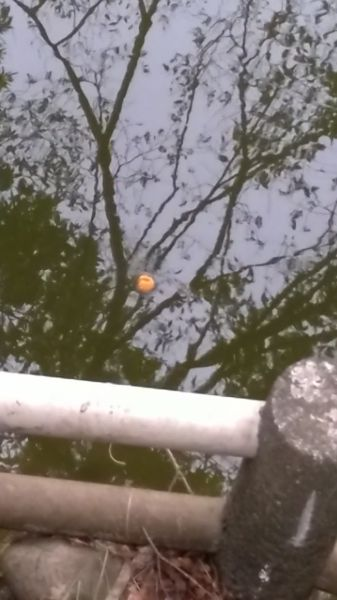eggs: (132, 272, 158, 294)
